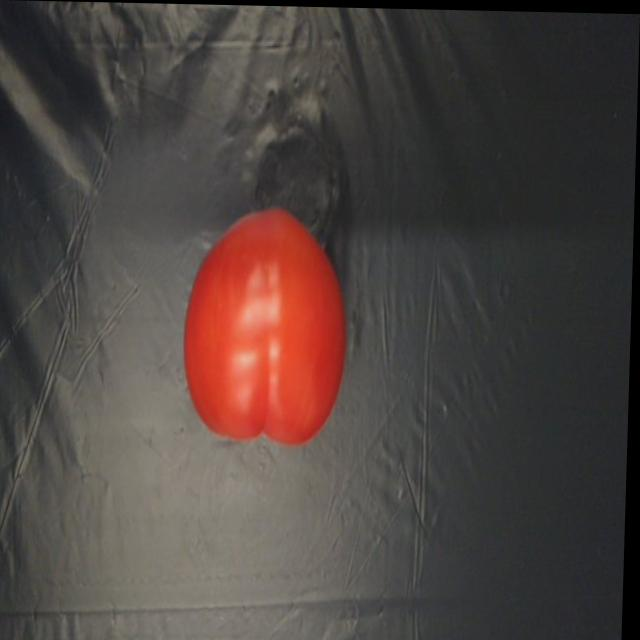kirmizi: (181, 183, 337, 456)
